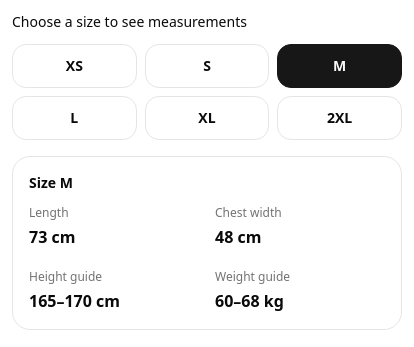
Scenario: mobile storefront controls › updates measurements when a customer chooses a size
Step 1. Click the button "XL" → {"x": 207, "y": 118}, box [145,96,269,140]
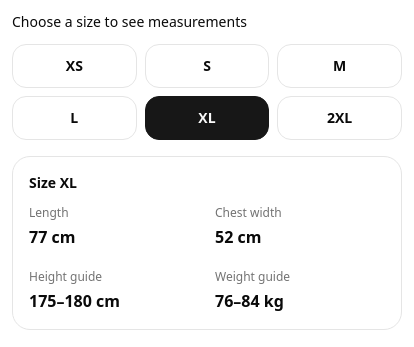
Expected: the element that starts with "Size" shows "Size XL", [12,156,402,330]
Expected: the element that starts with "Size" shows "77 cm", [29,226,75,248]
Expected: the element that starts with "Size" shows "52 cm", [215,226,261,248]
